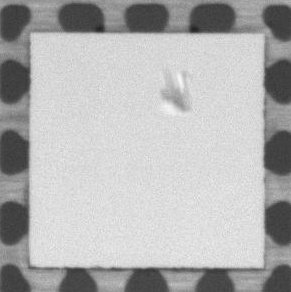DIE_INK: (156, 66, 194, 118)
